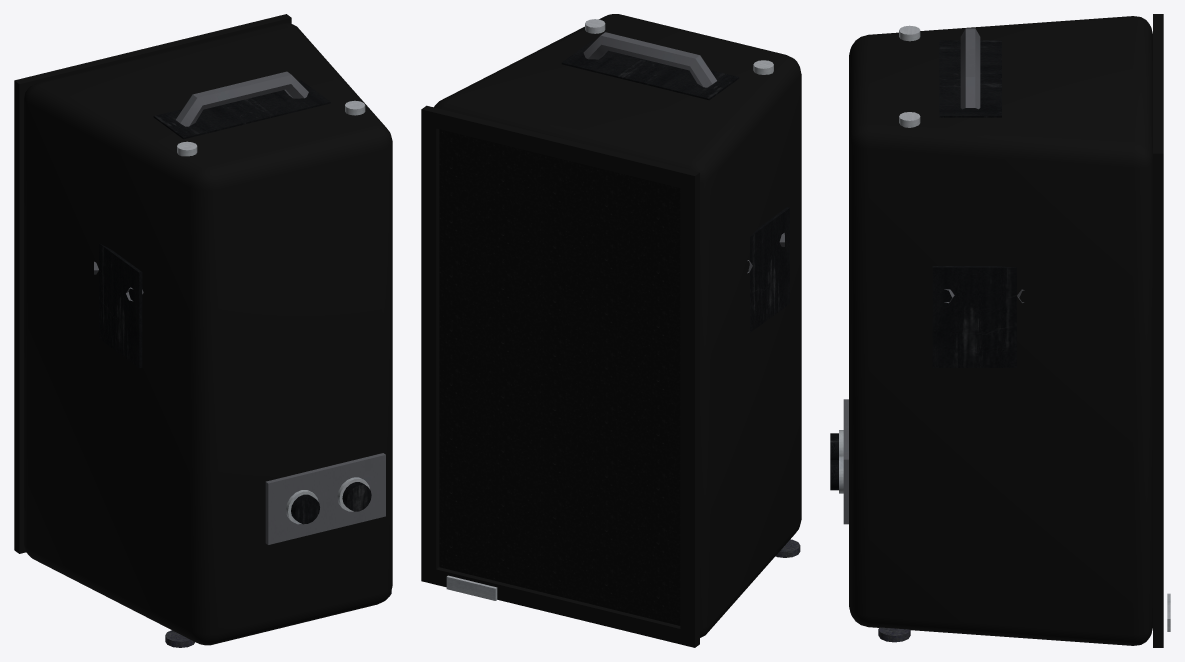
Rendered from top_qsk_13.gltf.
The picture shows the model from 3 angles, left to right: view 1: azimuth 30°, elevation 25°; view 2: azimuth 150°, elevation 25°; view 3: azimuth 270°, elevation 25°; orthographic projection. The views are drawn at different scales.
Parts seen in each view (by area): view 1: top_qsk_13; view 2: top_qsk_13; view 3: top_qsk_13.
Boxes of the visible parts, <box> form: top_qsk_13: <box>14,14,392,647</box>; top_qsk_13: <box>421,14,801,647</box>; top_qsk_13: <box>830,14,1170,647</box>.
Size of the model in its own units: 0.3727 by 0.6576 by 0.381.
Materials: 6 (6 with a texture image).
